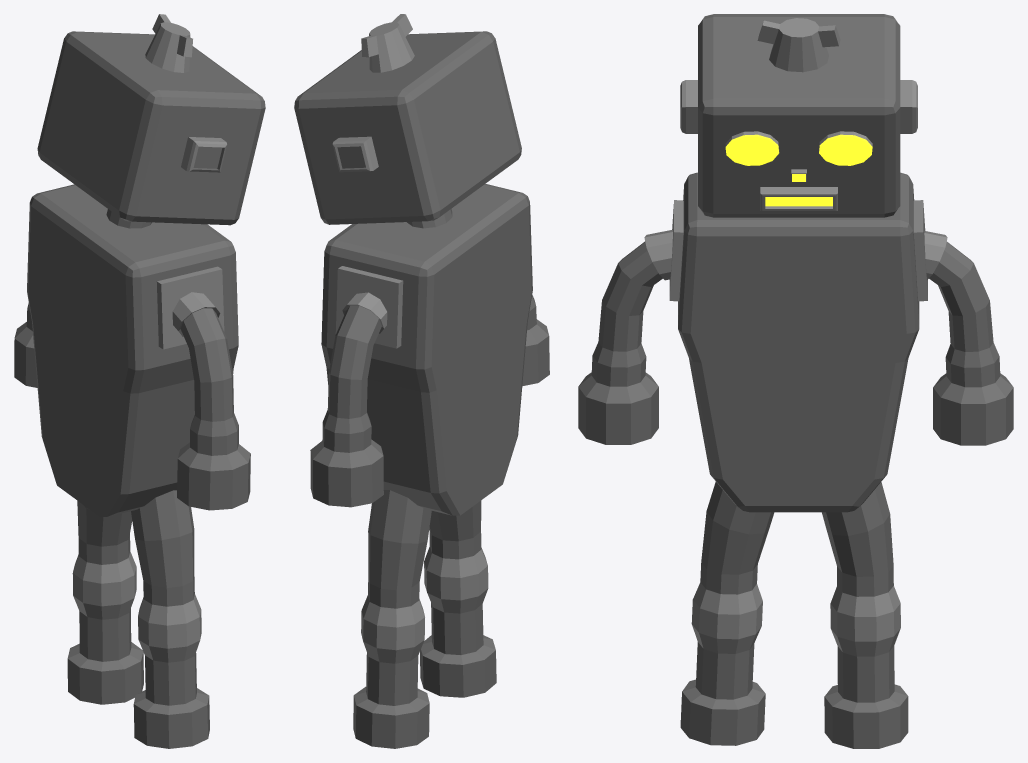
File: robot dañado(sincubrepanza).glb
3 renders of one model, left to right at view 1: azimuth 30°, elevation 25°; view 2: azimuth 150°, elevation 25°; view 3: azimuth 270°, elevation 25°, orthographic. The views are drawn at different scales.
Visible parts, largest first — view 1: torso.001, cabeza.001, pierna 2, pierna, brazo2, hombro2, brazo; view 2: torso.001, cabeza.001, pierna, pierna 2, brazo, hombro, brazo2; view 3: torso.001, cabeza.001, pierna, pierna 2, brazo2, brazo, hombro, hombro2.
Boxes of the visible parts, x1,y1,x2,y2 form: torso.001: (27,184,238,516); cabeza.001: (37,14,265,228); pierna 2: (131,490,209,748); pierna: (67,501,143,704); brazo2: (172,292,250,510); hombro2: (156,266,224,349); brazo: (14,303,37,387); torso.001: (321,184,532,515); cabeza.001: (294,14,521,228); pierna: (353,490,431,748); pierna 2: (420,500,496,697); brazo: (310,292,387,507); hombro: (335,266,403,348); brazo2: (522,295,549,386); torso.001: (678,172,919,512); cabeza.001: (680,14,917,217); pierna: (822,482,908,748); pierna 2: (680,481,774,745); brazo2: (578,229,672,444); brazo: (924,231,1013,445); hombro: (913,200,927,301); hombro2: (669,200,683,301).
Size of the model in its own units: 2.02 by 8.95 by 4.84.
